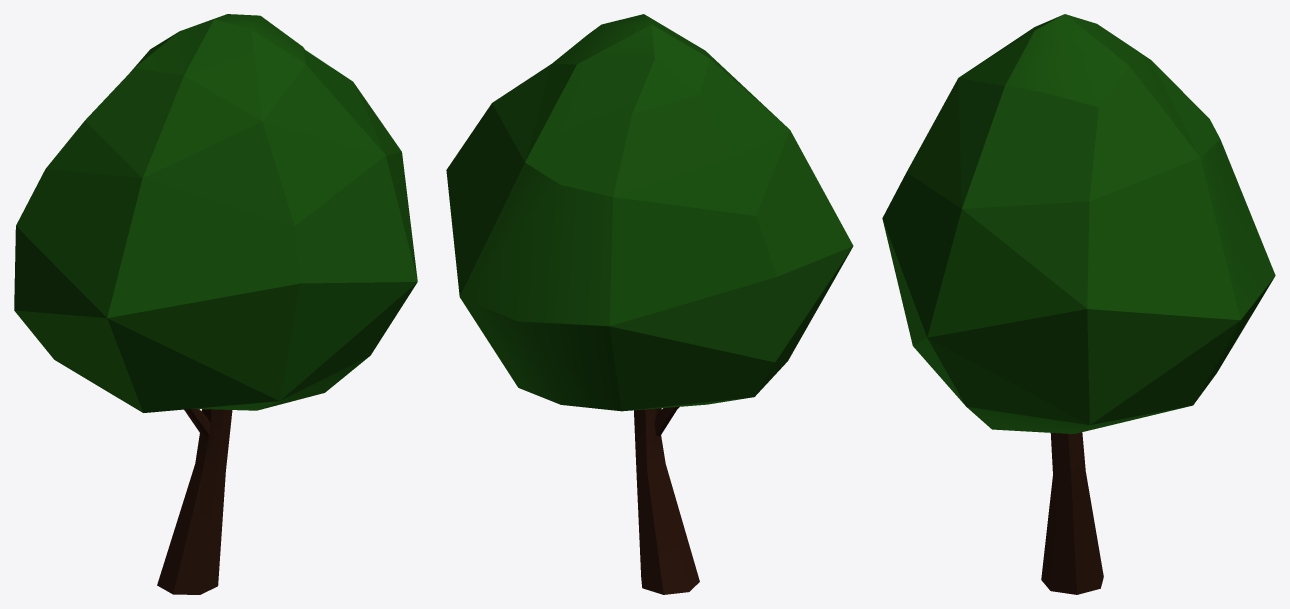
Rendered from arbol_3.FBX.
3 views of the same model, side by side, from view 1: azimuth 30°, elevation 25°; view 2: azimuth 150°, elevation 25°; view 3: azimuth 270°, elevation 25° (orthographic). The views are drawn at different scales.
Parts seen in each view (by area): view 1: pCylinder16; view 2: pCylinder16; view 3: pCylinder16.
Boxes of the visible parts, x1,y1,x2,y2 form: pCylinder16: [14, 14, 417, 594]; pCylinder16: [446, 14, 853, 594]; pCylinder16: [882, 14, 1275, 594].
Bounding box in the file's own units: 5.93 × 8.78 × 5.41.
